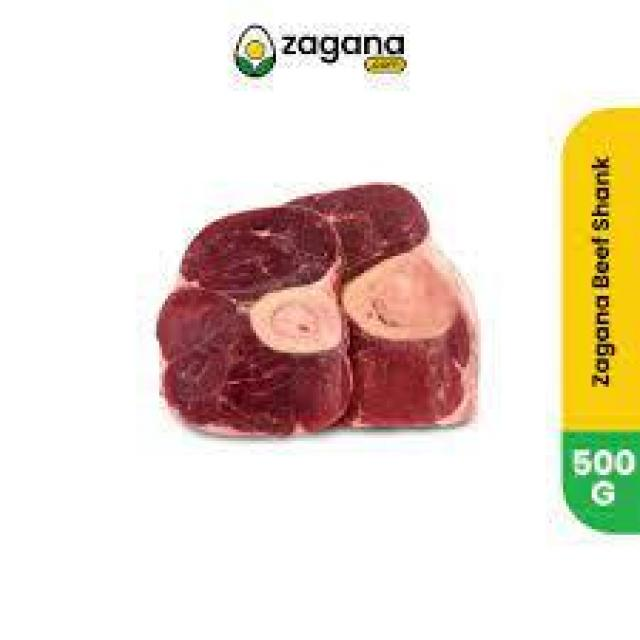Beef: (132, 192, 486, 451)
